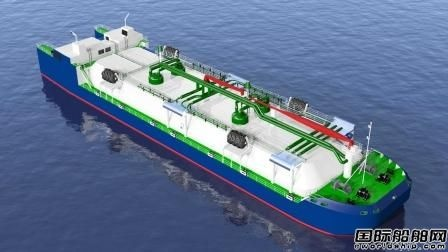Cargoship: (36, 13, 413, 240)
